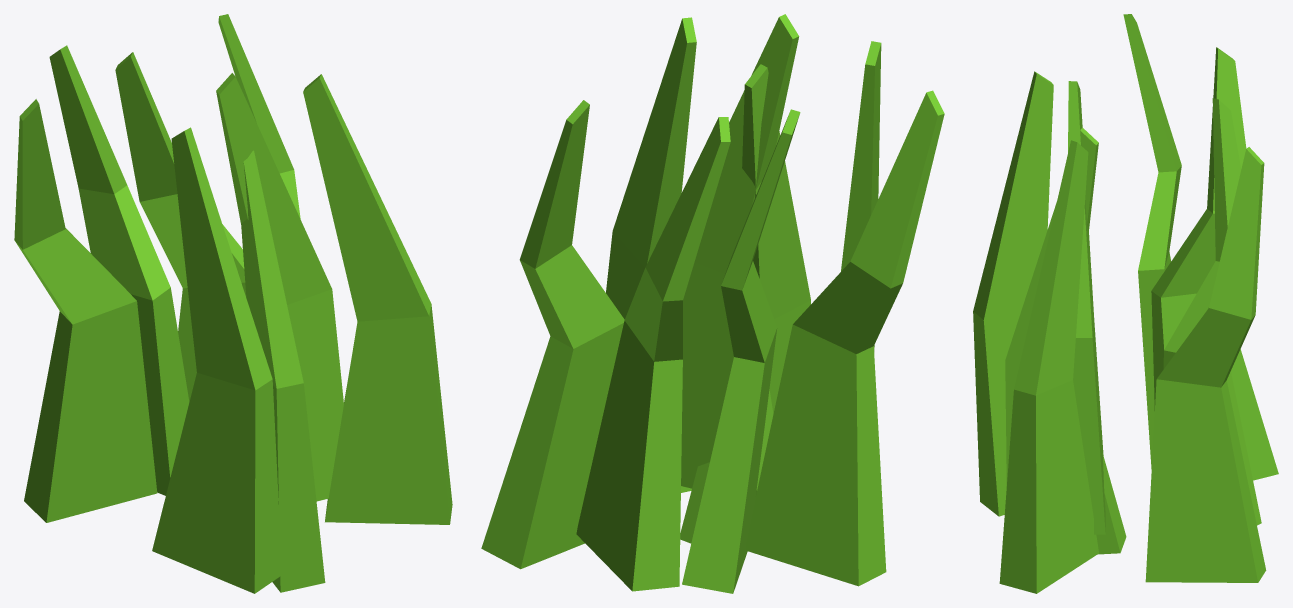
Rendered from grass.fbx.
3 renders of one model, left to right at view 1: azimuth 30°, elevation 25°; view 2: azimuth 150°, elevation 25°; view 3: azimuth 270°, elevation 25°, orthographic. The views are drawn at different scales.
Visible parts, largest first — view 1: Cube, Cube.001; view 2: Cube.001, Cube; view 3: Cube.001, Cube.
Part boxes in pixels (x1,y1,x2,y2): Cube: (14,45,343,593); Cube.001: (115,14,452,592); Cube.001: (481,17,810,591); Cube: (681,14,944,593); Cube.001: (999,98,1266,593); Cube: (973,14,1278,534).
Size of the model in its own units: 220 by 276 by 168.
